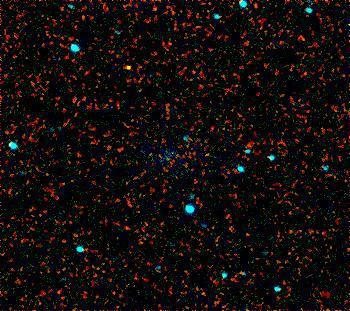star: (112, 52, 142, 82)
